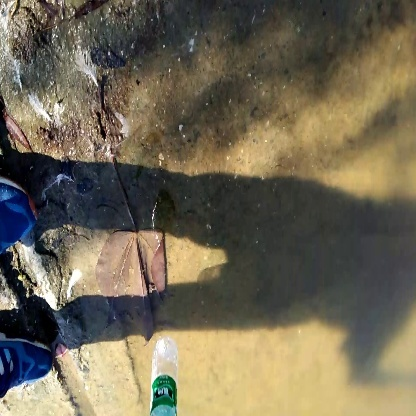leaf: (88, 153, 177, 341)
